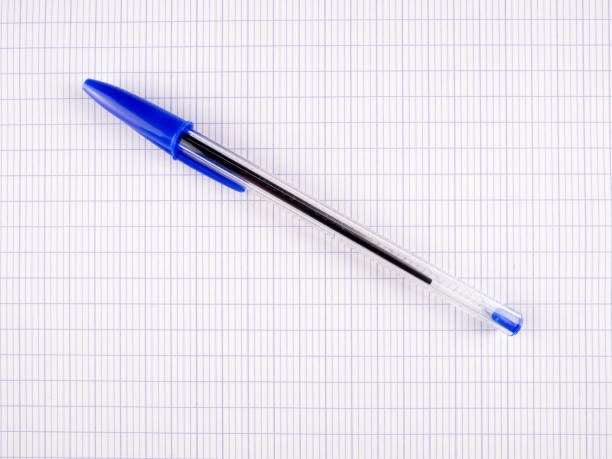pen: (77, 73, 543, 343)
